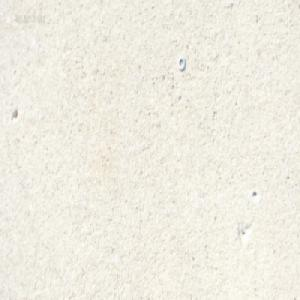Washer: (178, 55, 185, 70)
